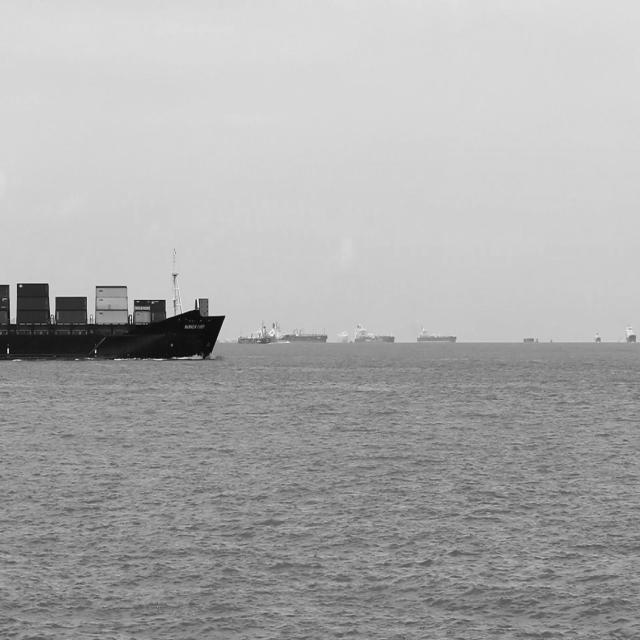ship: (0, 243, 229, 361), (356, 316, 398, 344), (415, 322, 462, 344), (244, 322, 286, 344), (284, 325, 331, 343), (622, 319, 640, 347), (522, 328, 542, 351), (336, 323, 353, 347), (226, 334, 252, 346), (593, 325, 607, 345), (211, 325, 221, 345)
